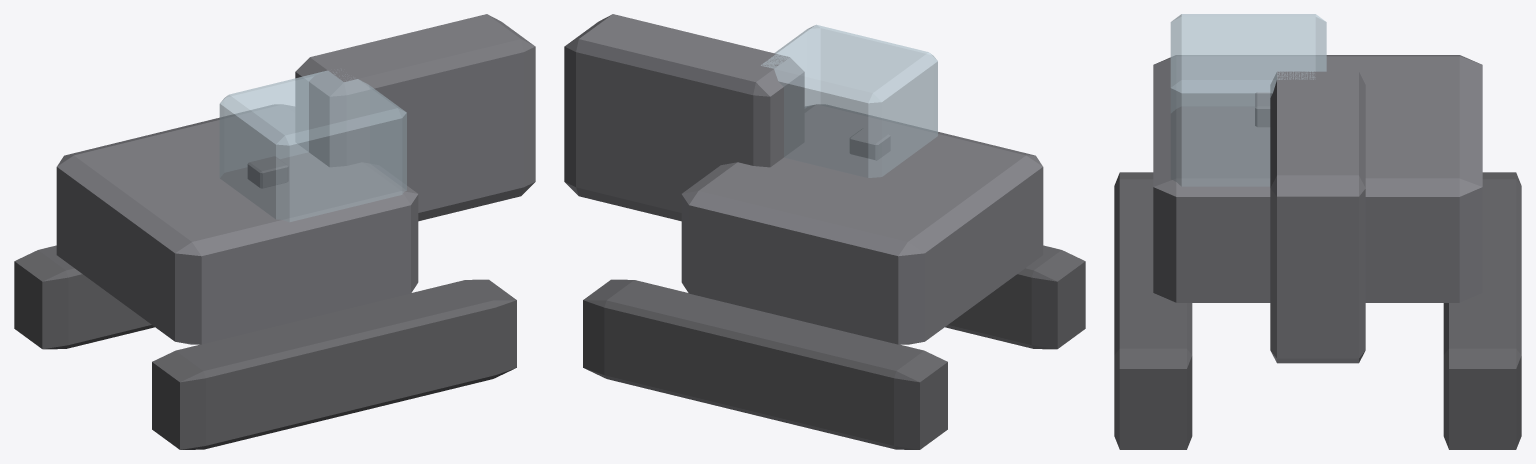
The model's file is b07_tracked_asphalt_paver.glb.
The picture shows the model from 3 angles, left to right: view 1: azimuth 30°, elevation 25°; view 2: azimuth 150°, elevation 25°; view 3: azimuth 270°, elevation 25°; orthographic projection. The views are drawn at different scales.
Parts seen in each view (by area): view 1: b07_tracked_asphalt_paver; view 2: b07_tracked_asphalt_paver; view 3: b07_tracked_asphalt_paver.
Boxes of the visible parts, <box> form: b07_tracked_asphalt_paver: <box>14,14,535,449</box>; b07_tracked_asphalt_paver: <box>564,14,1085,449</box>; b07_tracked_asphalt_paver: <box>1114,14,1521,449</box>.
Size of the model in its own units: 4.79 by 2.92 by 3.35.
